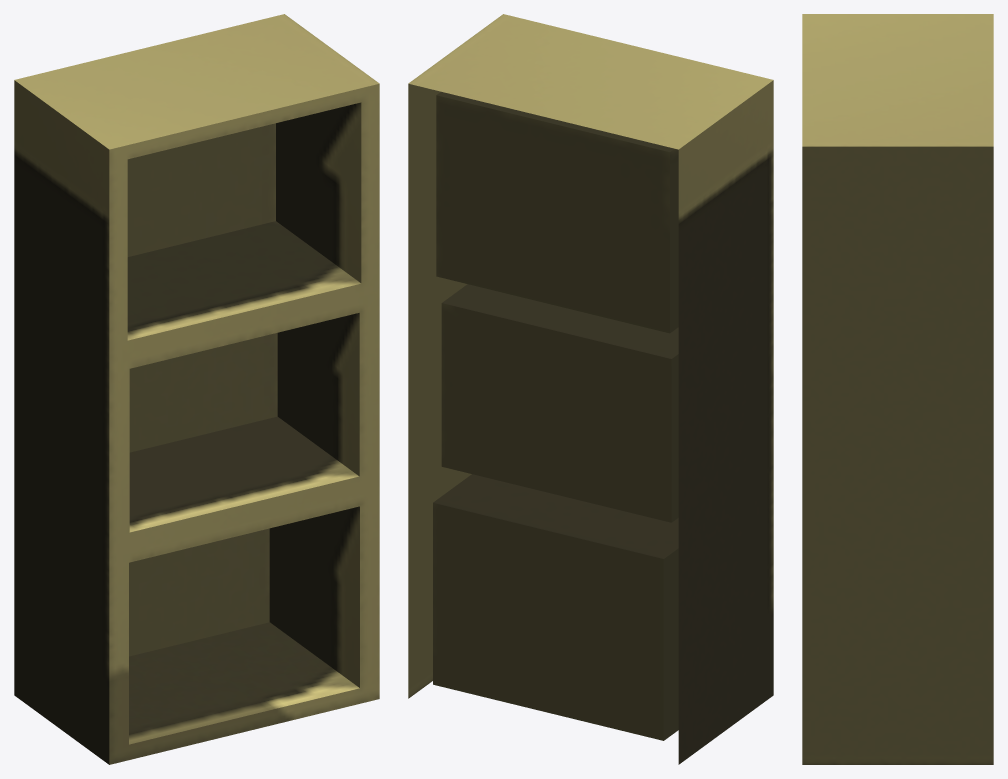
File: Tx_props_medical_bookshelf_single.fbx
3 renders of one model, left to right at view 1: azimuth 30°, elevation 25°; view 2: azimuth 150°, elevation 25°; view 3: azimuth 270°, elevation 25°, orthographic.
Parts seen in each view (by area): view 1: Tx_props_medical_bookshelf_single; view 2: Tx_props_medical_bookshelf_single; view 3: Tx_props_medical_bookshelf_single.
Boxes of the visible parts, x1,y1,x2,y2 form: Tx_props_medical_bookshelf_single: (14,14,379,764); Tx_props_medical_bookshelf_single: (408,14,773,764); Tx_props_medical_bookshelf_single: (802,14,993,764).
Bounding box in the file's own units: 7.16 × 15.58 × 4.37.
